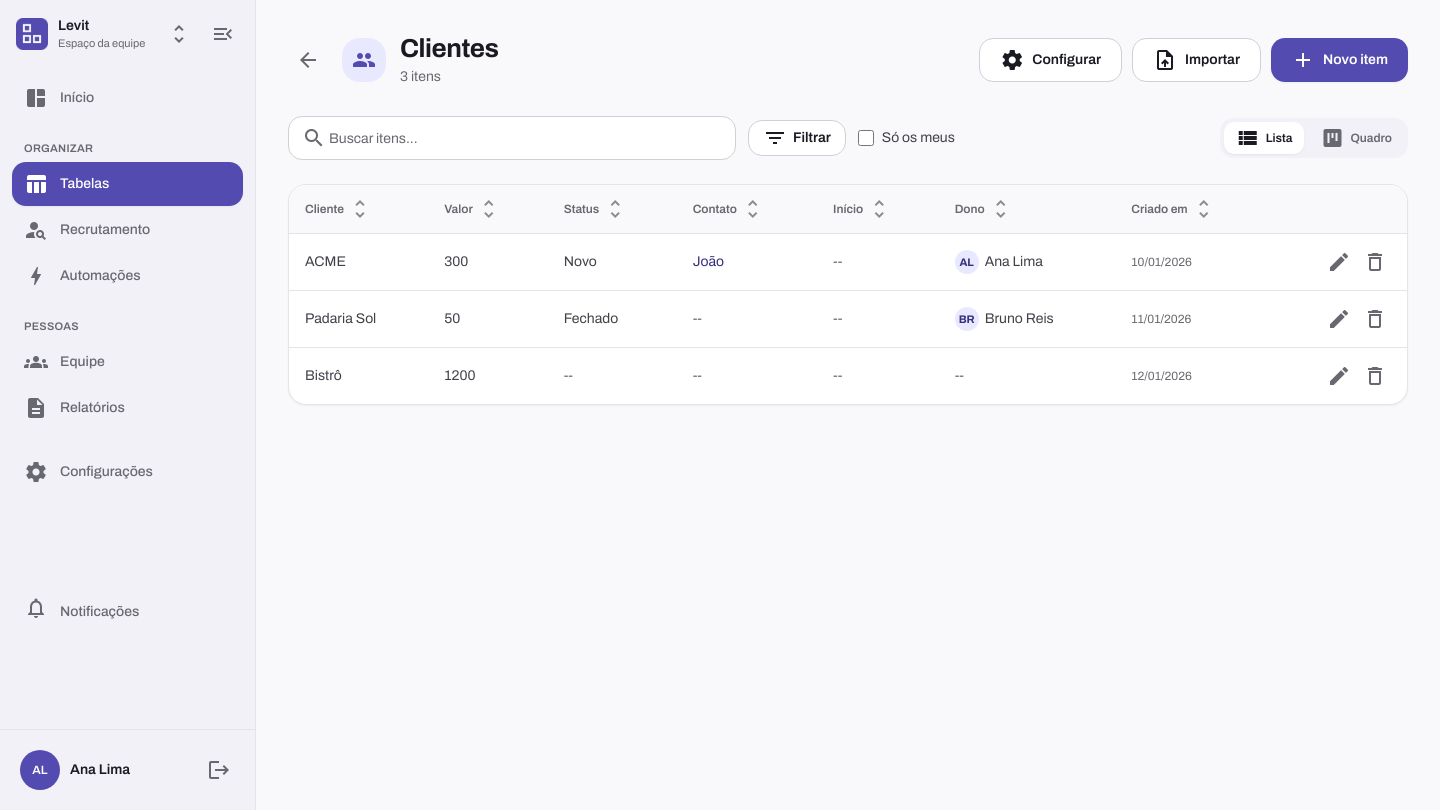
ModuleRecords › edita um item existente
expect the cell "ACME" is shown: met, box left=289, top=234, right=428, bottom=290
Click the button named "Editar item" in the row of "Padaria Sol" at coordinates (1339, 319), box left=1323, top=303, right=1355, bottom=335
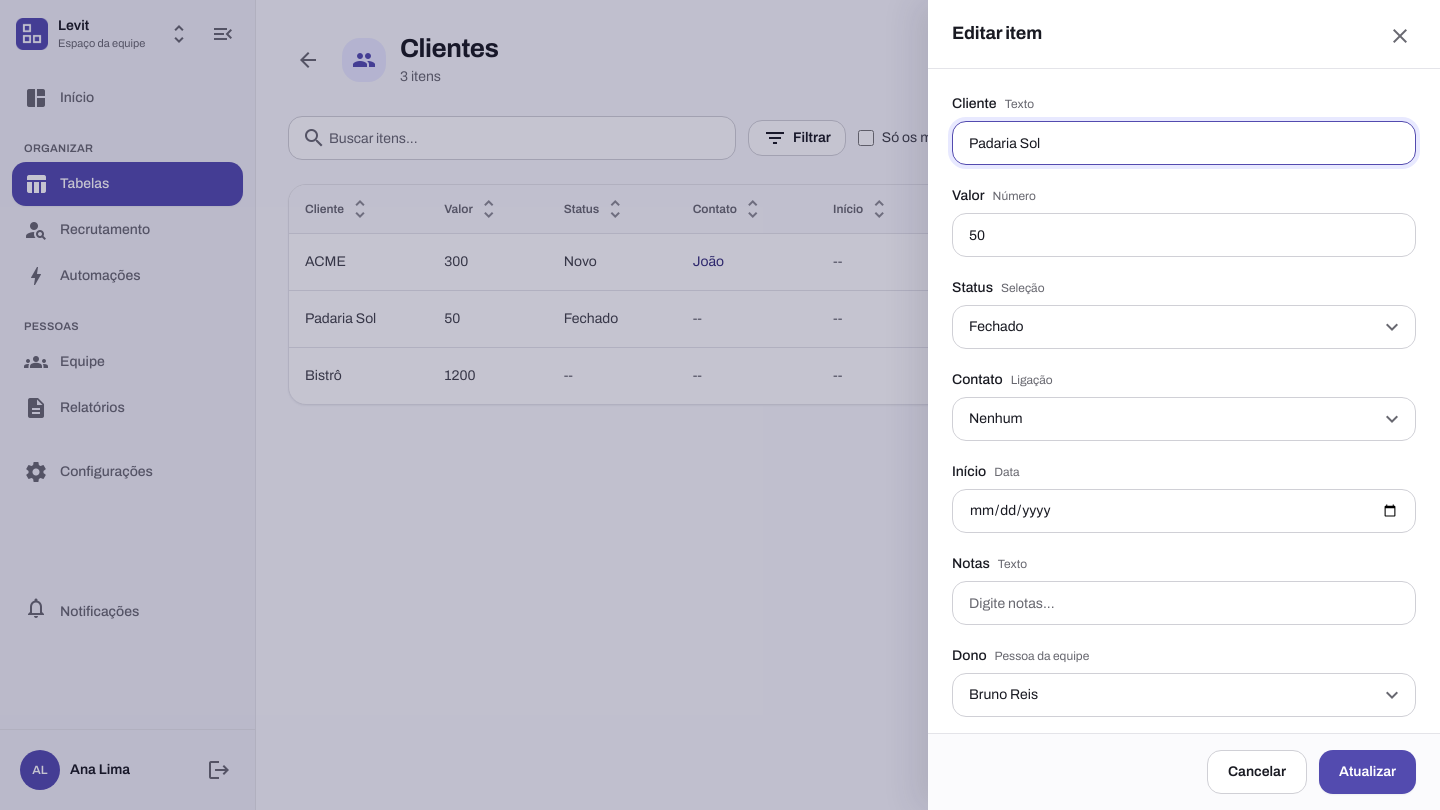
expect the field labelled "ClienteTexto" holds "Padaria Sol": met
Replace the text in the field labelled "ClienteTexto" with "Padaria Lua" at coordinates (1184, 143), box left=952, top=121, right=1416, bottom=165
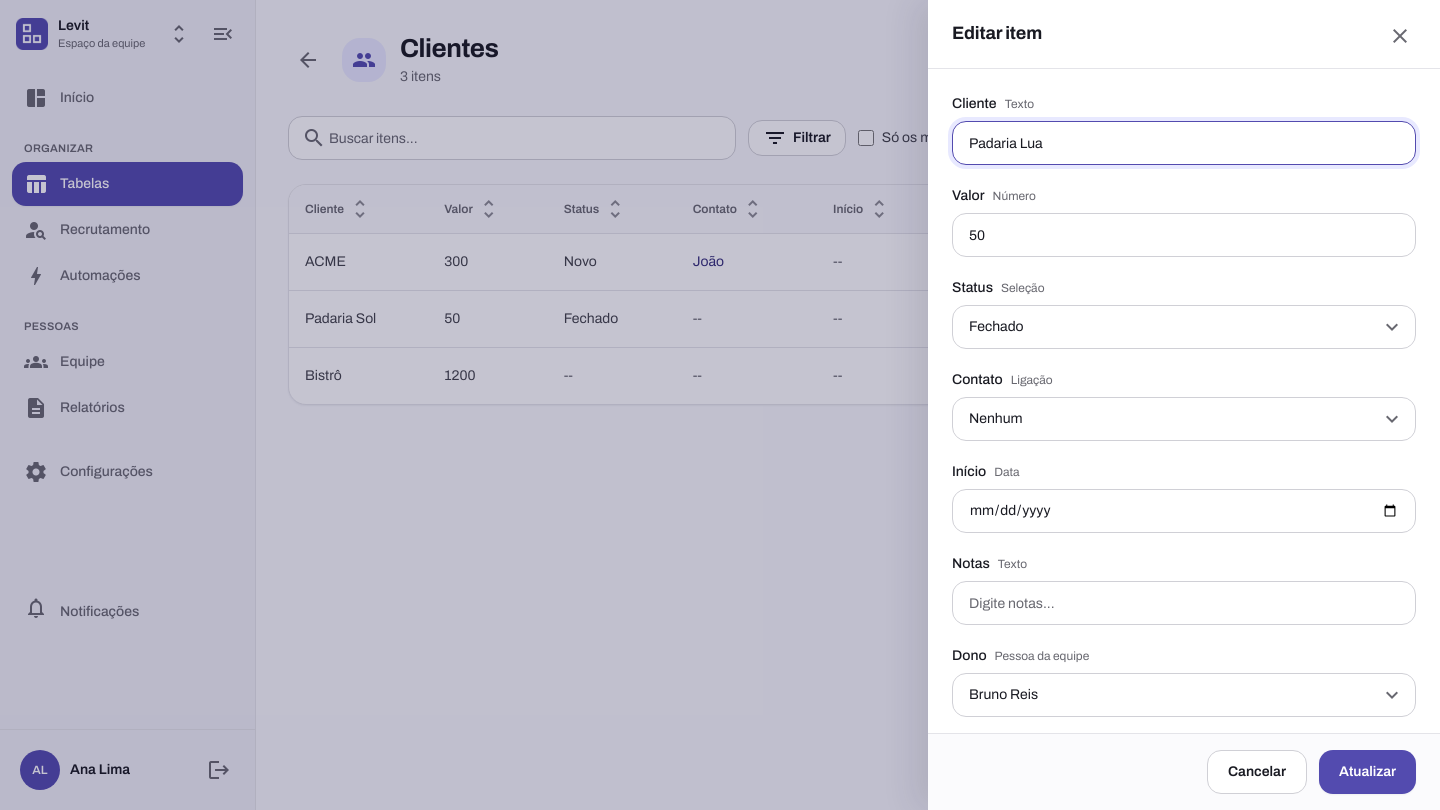
Click the button "Atualizar" at coordinates (1368, 772), box left=1319, top=750, right=1416, bottom=794
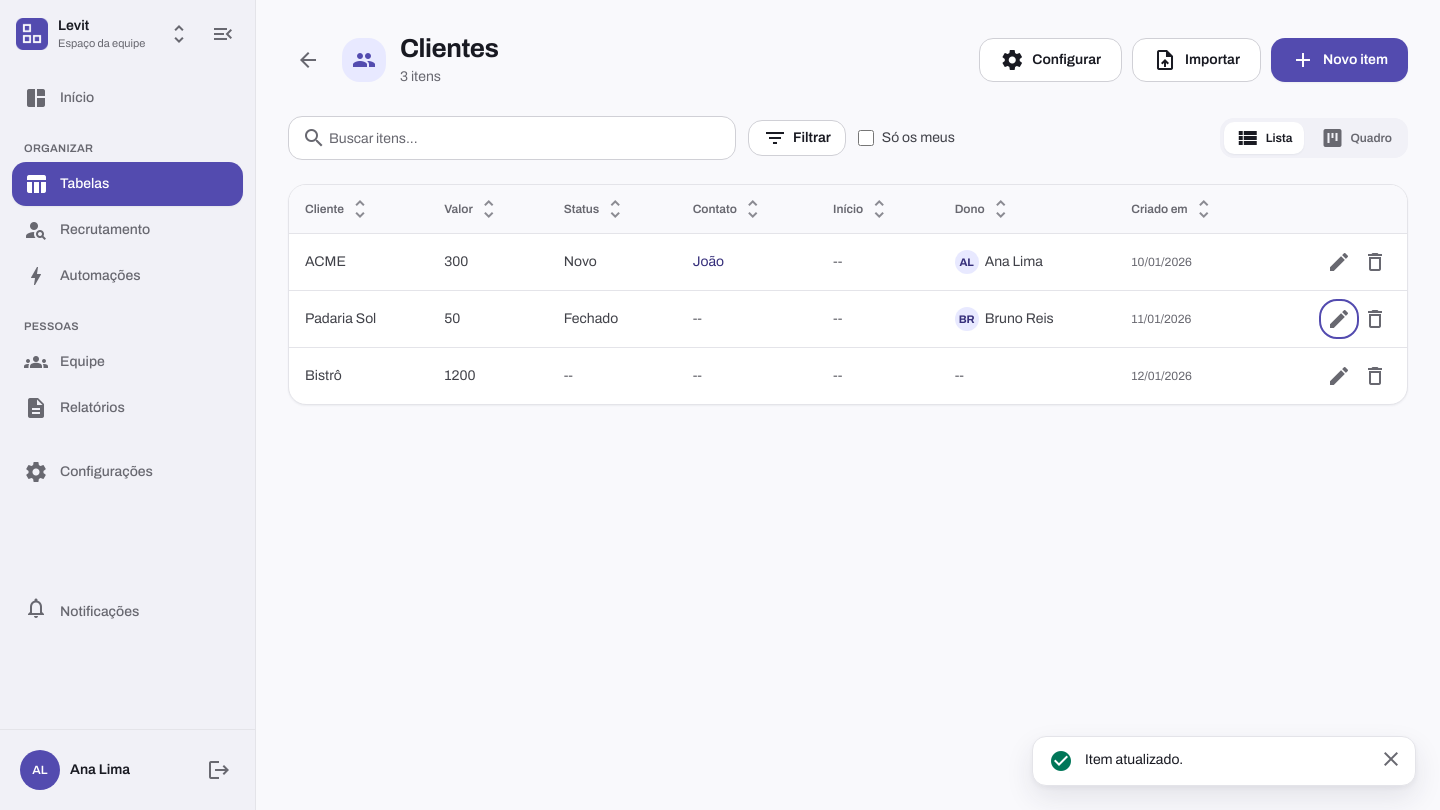
expect the text "Item atualizado." is shown: met, box left=1085, top=752, right=1183, bottom=767
